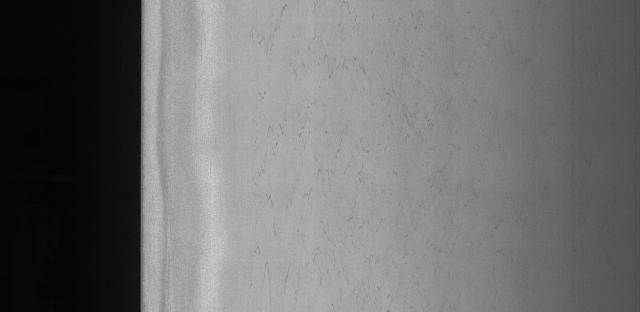silk_spot: (253, 0, 450, 231)
